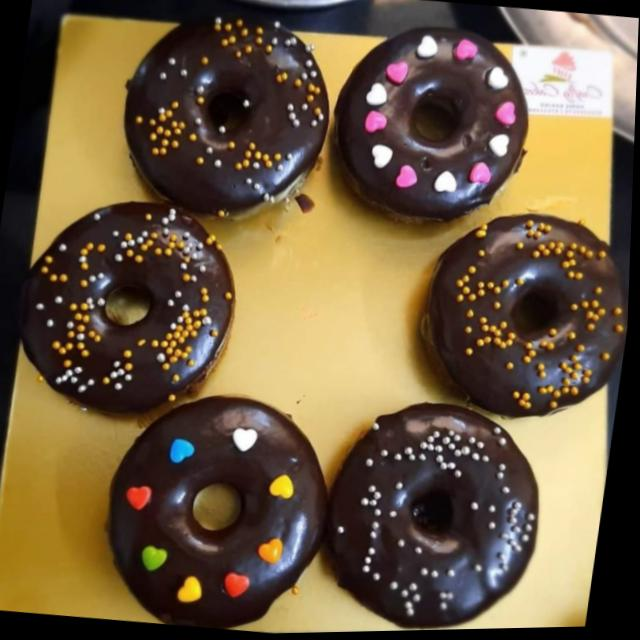donut: (93, 382, 342, 638), (310, 391, 557, 634), (11, 187, 250, 432), (106, 0, 347, 231), (399, 202, 634, 430), (319, 17, 545, 241)
